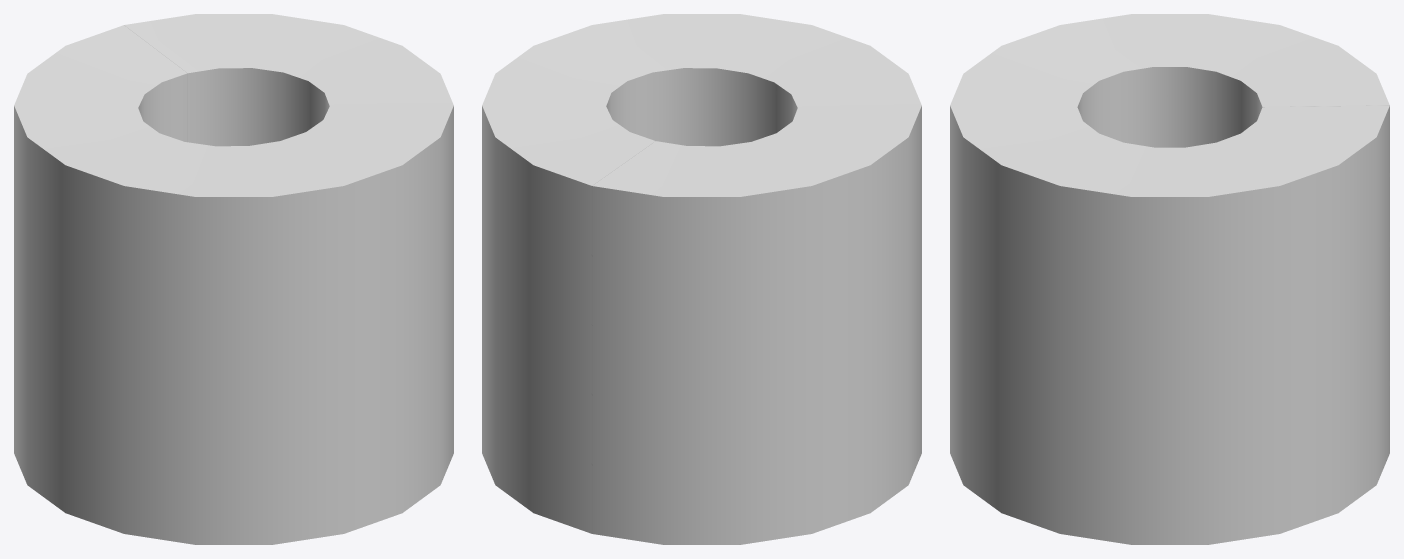
Rendered from Toilet Paper Textured.fbx.
3 renders of one model, left to right at view 1: azimuth 30°, elevation 25°; view 2: azimuth 150°, elevation 25°; view 3: azimuth 270°, elevation 25°, orthographic.
Visible parts, largest first — view 1: Tube001; view 2: Tube001; view 3: Tube001.
Part boxes in pixels (x1=…): Tube001: x1=14, y1=14, x2=453, y2=544; Tube001: x1=482, y1=14, x2=921, y2=544; Tube001: x1=950, y1=14, x2=1389, y2=544.
Bounding box in the file's own units: 1.54 × 1.37 × 1.57.
1 material, 1 textured.
